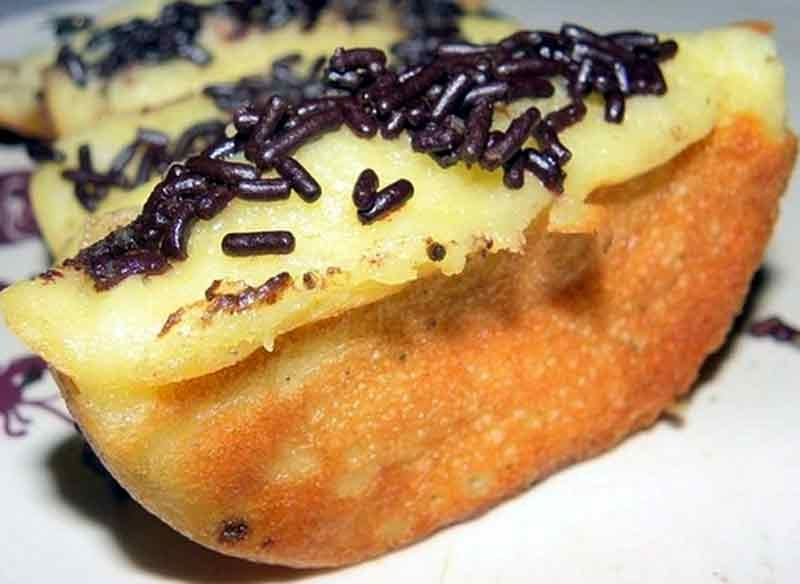pukis: (18, 23, 794, 562)
